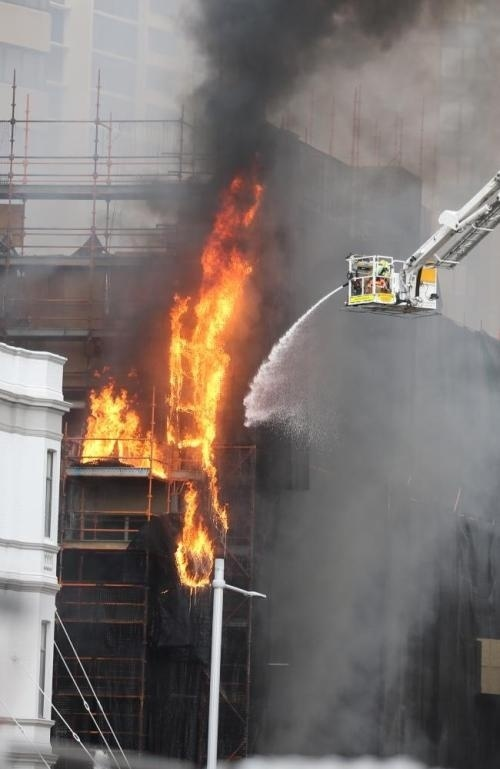fire: (75, 156, 265, 585)
